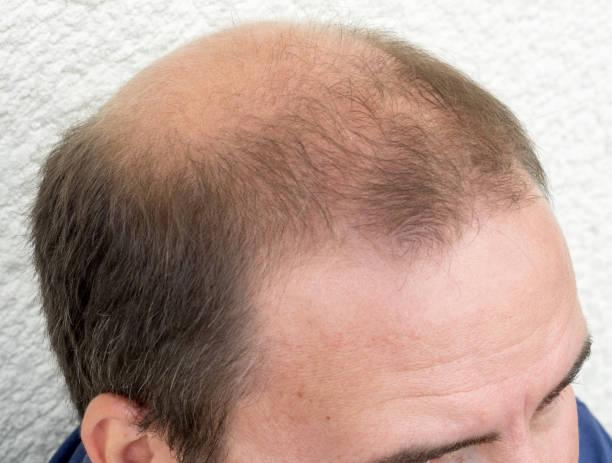dry hair: (94, 325, 199, 424)
low hair density: (176, 162, 472, 231), (185, 47, 369, 123), (77, 115, 207, 147)
